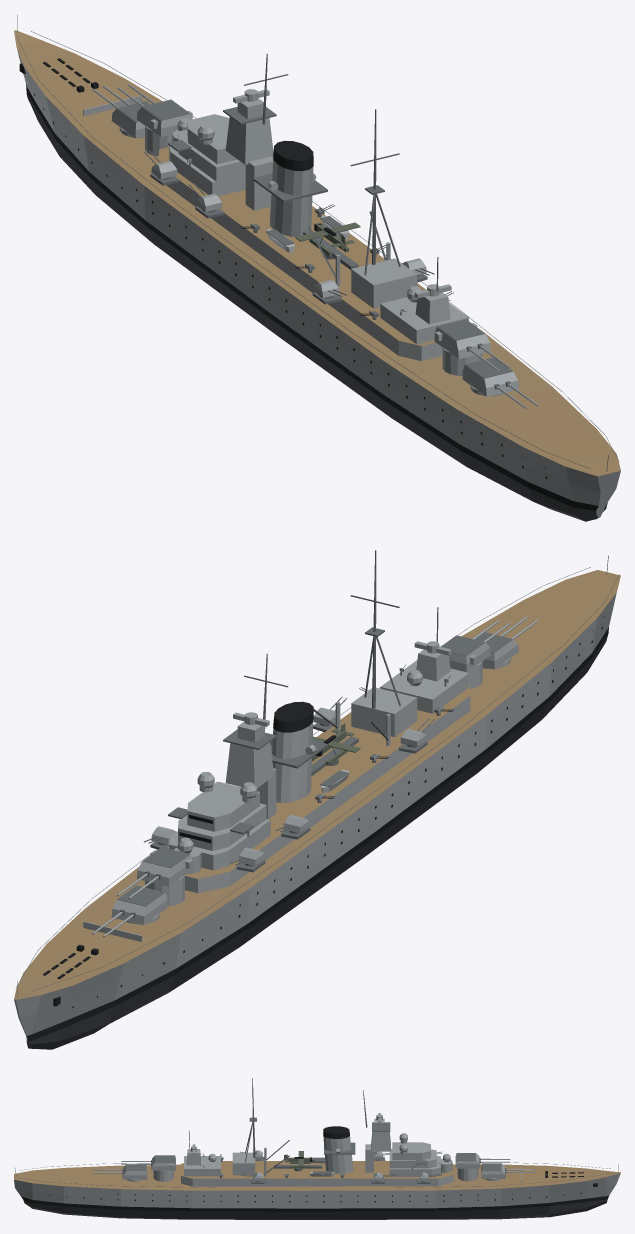
Rendered from hipper.glb.
3 views of the same model, one above another, from view 1: azimuth 30°, elevation 25°; view 2: azimuth 150°, elevation 25°; view 3: azimuth 270°, elevation 25° (orthographic). The views are drawn at different scales.
Parts seen in each view (by area): view 1: Prinz Eugen; view 2: Prinz Eugen; view 3: Prinz Eugen.
Part boxes in pixels (x1=…): Prinz Eugen: x1=14, y1=14, x2=620, y2=521; Prinz Eugen: x1=14, y1=550, x2=620, y2=1049; Prinz Eugen: x1=14, y1=1078, x2=620, y2=1219.
Size of the model in its own units: 22.02 by 53.2 by 212.
